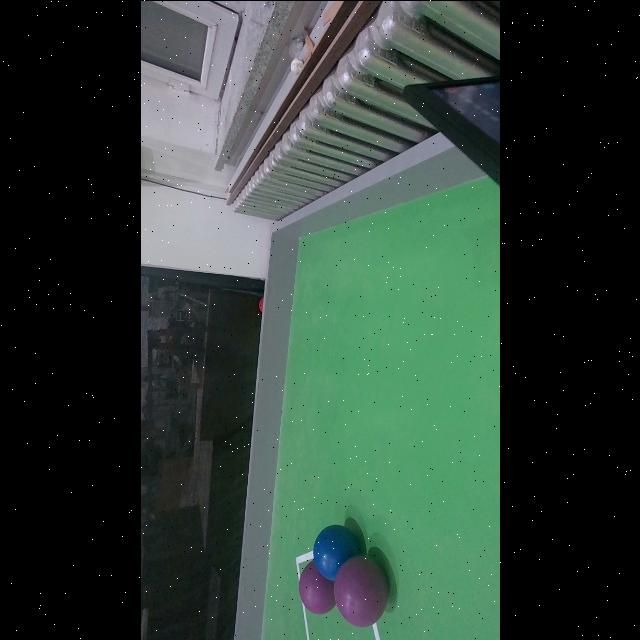B: (312, 524, 358, 580)
P: (334, 555, 388, 627), (294, 564, 340, 618)
